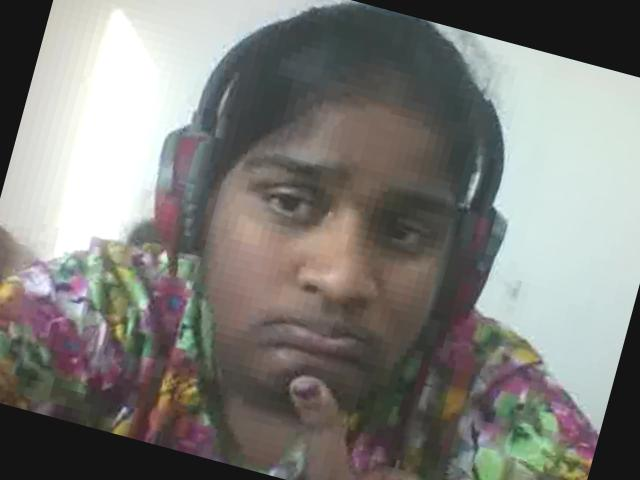bosan: (168, 65, 508, 453)
